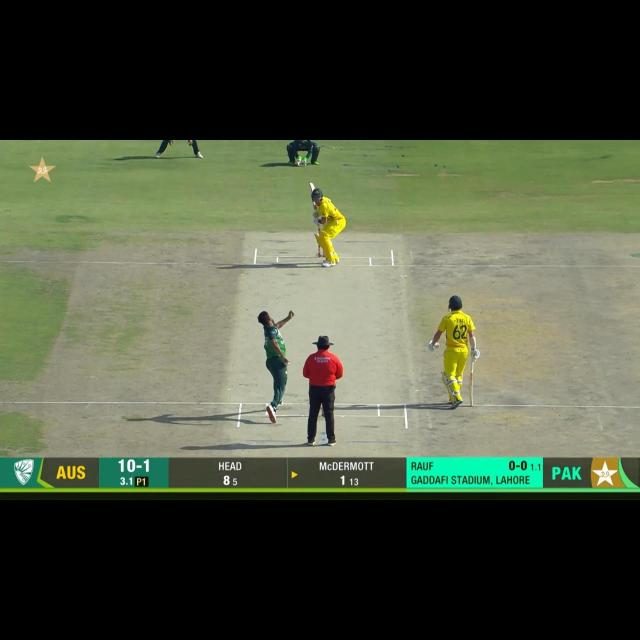bat: (308, 179, 320, 216), (467, 372, 478, 406)
toe: (308, 180, 318, 192), (468, 394, 476, 408)
